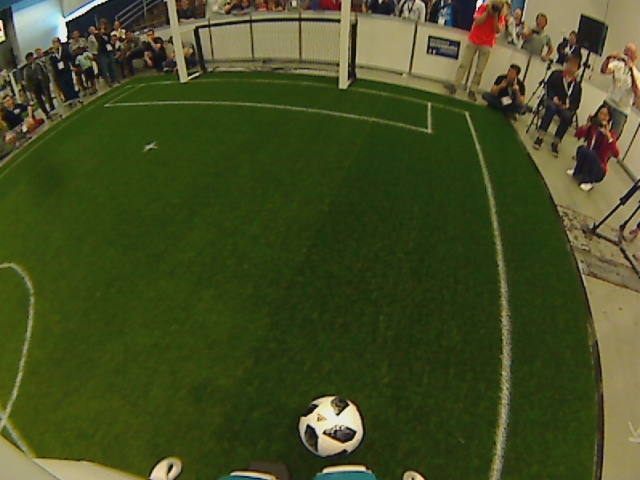ball: (296, 395, 365, 459)
